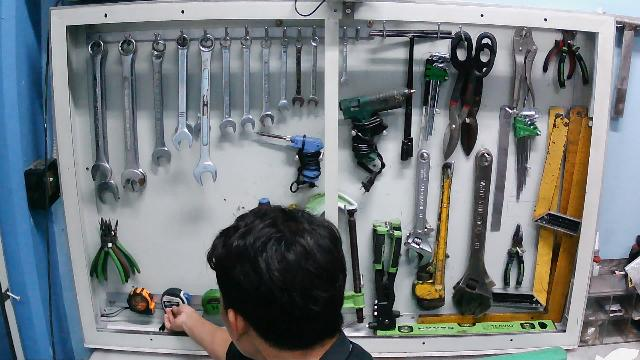meteran: (158, 285, 195, 334)
